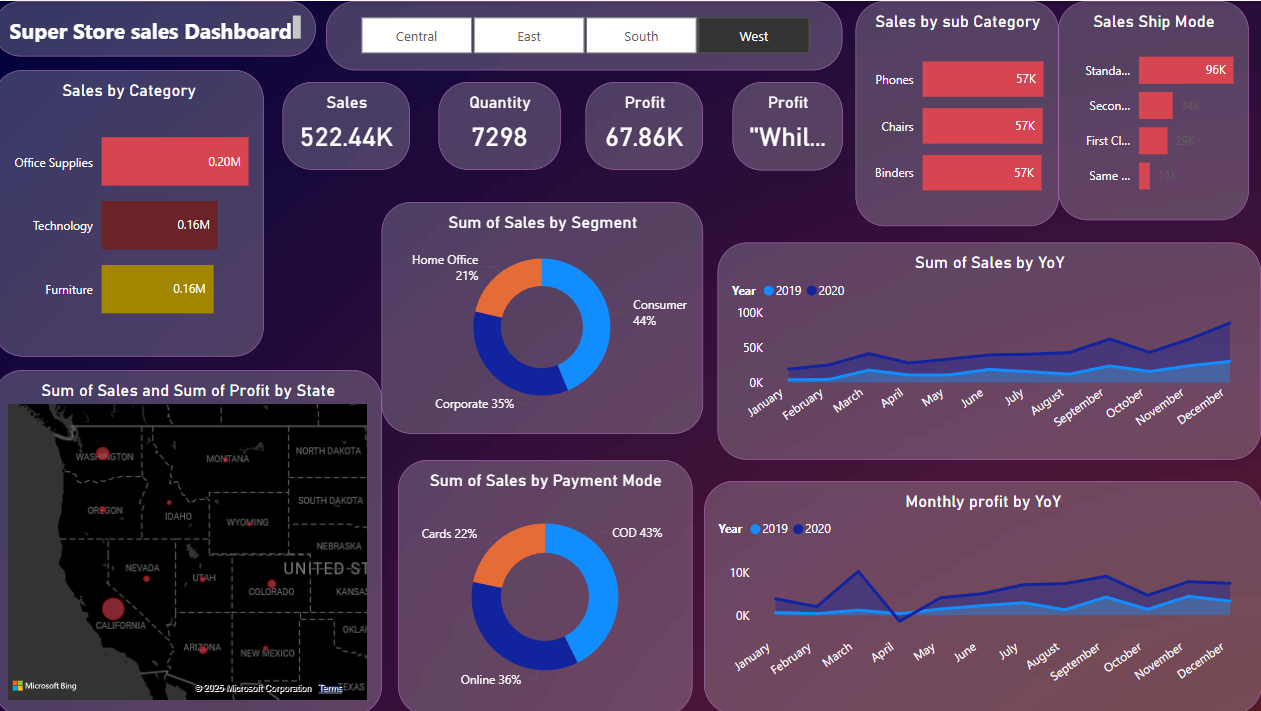

What the dashboard file says about the page in this screenshot:
{"tool":"powerbi","page":{"name":"Page 1","canvas":[1280,720],"ordinal":0},"visuals":[{"type":"clusteredBarChart","title":"Sales by Category","fields":{"Category":["SuperStore_Sales_Dataset.Category"],"Y":["Sum(SuperStore_Sales_Dataset.Sales)"]},"box":[0,70,273.6,289.5],"z":0},{"type":"clusteredBarChart","title":"Sales by sub Category","fields":{"Category":["SuperStore_Sales_Dataset.Sub-Category"],"Y":["Sum(SuperStore_Sales_Dataset.Sales)"]},"box":[870.1,0,205.2,227.5],"z":1000},{"type":"clusteredBarChart","title":"Sales Ship Mode","fields":{"Category":["SuperStore_Sales_Dataset.Ship Mode"],"Y":["Sum(SuperStore_Sales_Dataset.Sales)"]},"box":[1075.3,0,192.5,221.1],"z":2000},{"type":"stackedAreaChart","title":"Sum of Sales by YoY","fields":{"Y":["Sum(SuperStore_Sales_Dataset.Sales)"],"Series":["SuperStore_Sales_Dataset.Order Date.Variation.Date Hierarchy.Year"],"Category":["SuperStore_Sales_Dataset.Order Date.Variation.Date Hierarchy.Month"]},"box":[731.7,243.4,548.8,219.5],"z":3000},{"type":"stackedAreaChart","title":"Monthly profit by YoY","fields":{"Series":["SuperStore_Sales_Dataset.Order Date.Variation.Date Hierarchy.Year"],"Category":["SuperStore_Sales_Dataset.Order Date.Variation.Date Hierarchy.Month"],"Y":["Sum(SuperStore_Sales_Dataset.Profit)"]},"box":[717.4,485.1,563.1,235.4],"z":4000},{"type":"map","fields":{"Category":["SuperStore_Sales_Dataset.State"],"Size":["Sum(SuperStore_Sales_Dataset.Sales)"]},"box":[0,372.2,392.9,348.3],"z":5000},{"type":"donutChart","fields":{"Category":["SuperStore_Sales_Dataset.Segment"],"Y":["Sum(SuperStore_Sales_Dataset.Sales)"]},"box":[392.9,203.6,324.5,233.8],"z":6000},{"type":"donutChart","fields":{"Category":["SuperStore_Sales_Dataset.Payment Mode"],"Y":["Sum(SuperStore_Sales_Dataset.Sales)"]},"box":[408.8,462.9,297.4,257.7],"z":7000},{"type":"slicer","fields":{"Values":["SuperStore_Sales_Dataset.Region"]},"box":[336.6,0,521.4,70.2],"z":8000},{"type":"textbox","box":[0,0,326.1,55.7],"z":9000},{"type":"card","title":"Sales","fields":{"Values":["Sum(SuperStore_Sales_Dataset.Sales)"]},"box":[292.2,81.6,128.9,88.8],"z":10000},{"type":"card","title":"Quantity","fields":{"Values":["Sum(SuperStore_Sales_Dataset.Quantity)"]},"box":[449.8,81.6,123.2,88.8],"z":11000},{"type":"card","title":"Profit","fields":{"Values":["Sum(SuperStore_Sales_Dataset.Profit)"]},"box":[598.7,81.6,118.9,88.8],"z":12000},{"type":"card","title":"Profit","fields":{"Values":["Min(SuperStore_Sales_Dataset.Product Name)"]},"box":[746,81.1,111.3,89.1],"z":13000}]}

Visuals, with their boxes in screenshot pixels (x1, y1, x2, y2), scaled from the page's 1280x720 canvas onto the 1261x711 screenshot:
"Sales by Category" clusteredBarChart: locate(0, 69, 270, 355)
"Sales by sub Category" clusteredBarChart: locate(857, 0, 1059, 225)
"Sales Ship Mode" clusteredBarChart: locate(1059, 0, 1249, 218)
"Sum of Sales by YoY" stackedAreaChart: locate(721, 240, 1260, 457)
"Monthly profit by YoY" stackedAreaChart: locate(707, 479, 1260, 710)
map - SuperStore_Sales_Dataset.State x Sum(SuperStore_Sales_Dataset.Sales): locate(0, 368, 387, 710)
donutChart - SuperStore_Sales_Dataset.Segment x Sum(SuperStore_Sales_Dataset.Sales): locate(387, 201, 707, 432)
donutChart - SuperStore_Sales_Dataset.Payment Mode x Sum(SuperStore_Sales_Dataset.Sales): locate(403, 457, 696, 710)
slicer - SuperStore_Sales_Dataset.Region: locate(332, 0, 845, 69)
textbox: locate(0, 0, 321, 55)
"Sales" card: locate(288, 81, 415, 168)
"Quantity" card: locate(443, 81, 564, 168)
"Profit" card: locate(590, 81, 707, 168)
"Profit" card: locate(735, 80, 845, 168)
